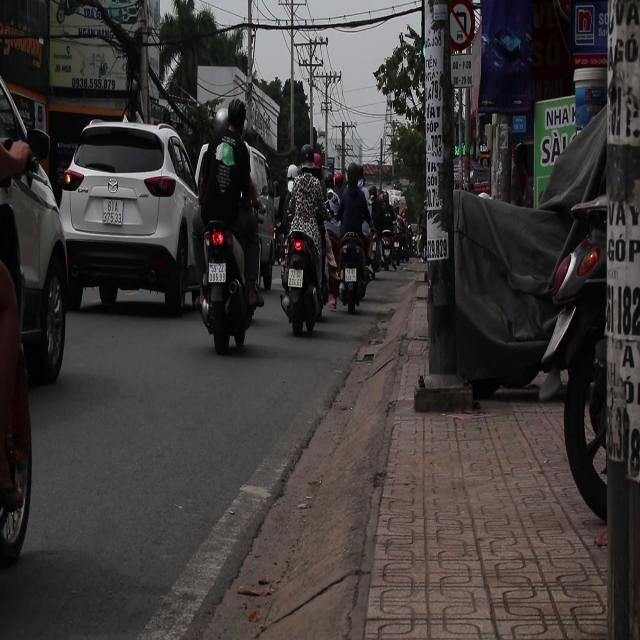car: (59, 121, 204, 319)
motorbike: (199, 218, 256, 355), (281, 200, 333, 333), (334, 228, 378, 315), (374, 208, 411, 276)
